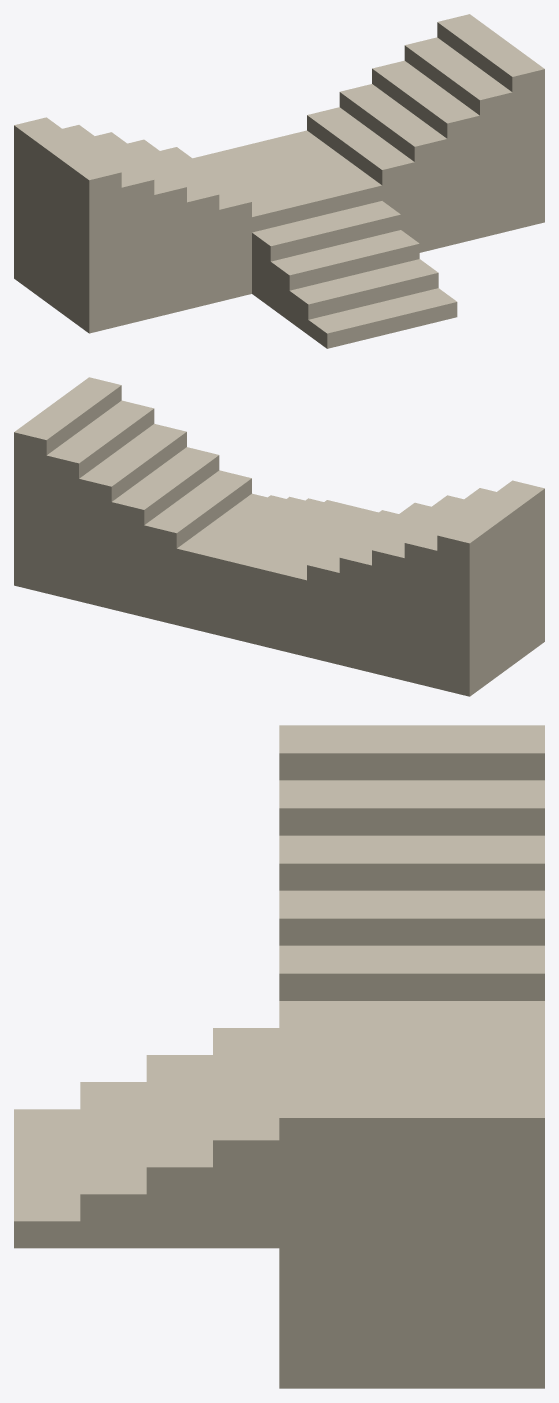
3 views of the same model, one above another, from view 1: azimuth 30°, elevation 25°; view 2: azimuth 150°, elevation 25°; view 3: azimuth 270°, elevation 25° (orthographic). The views are drawn at different scales.
Visible parts, largest first — view 1: WholeBifurcatedFlightsAndSharedLanding; view 2: WholeBifurcatedFlightsAndSharedLanding; view 3: WholeBifurcatedFlightsAndSharedLanding.
Boxes of the visible parts, x1,y1,x2,y2 form: WholeBifurcatedFlightsAndSharedLanding: [14, 14, 544, 348]; WholeBifurcatedFlightsAndSharedLanding: [14, 377, 544, 696]; WholeBifurcatedFlightsAndSharedLanding: [14, 725, 544, 1388].
Size of the model in its own units: 5.6 by 1.8 by 3.2.
